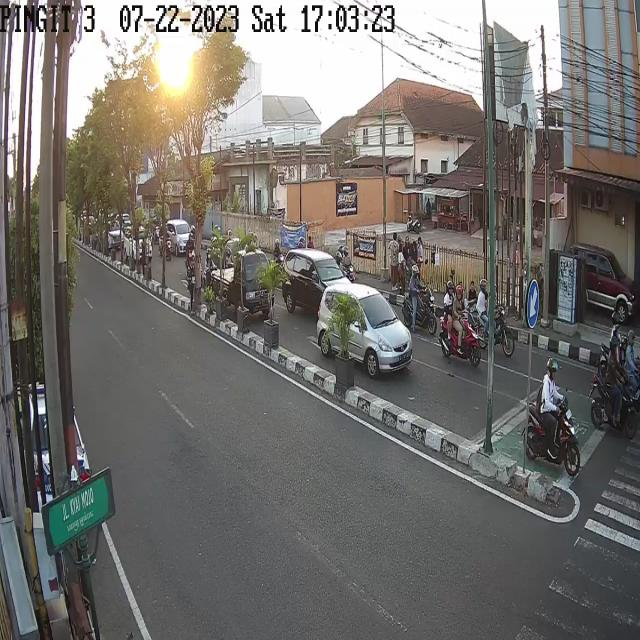car: (314, 280, 414, 379), (570, 243, 637, 324), (282, 248, 356, 316), (126, 225, 150, 268), (168, 218, 195, 255), (105, 216, 124, 255)
motorcycle: (522, 364, 583, 476), (588, 337, 638, 433), (440, 297, 485, 365), (477, 282, 509, 354), (404, 268, 437, 334), (406, 216, 421, 233)
truck: (209, 250, 273, 330)
